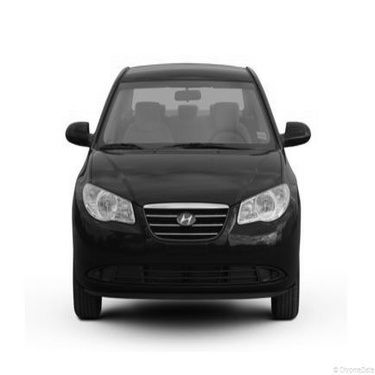car: (44, 56, 322, 329)
